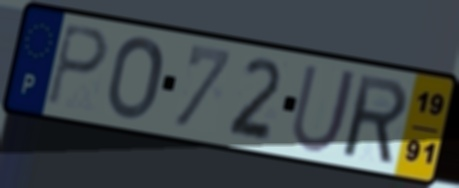2: (225, 56, 282, 144)
7: (173, 41, 234, 132)
O: (104, 34, 166, 122)
P: (45, 20, 110, 109)
R: (342, 71, 410, 168)
U: (287, 61, 361, 157)
